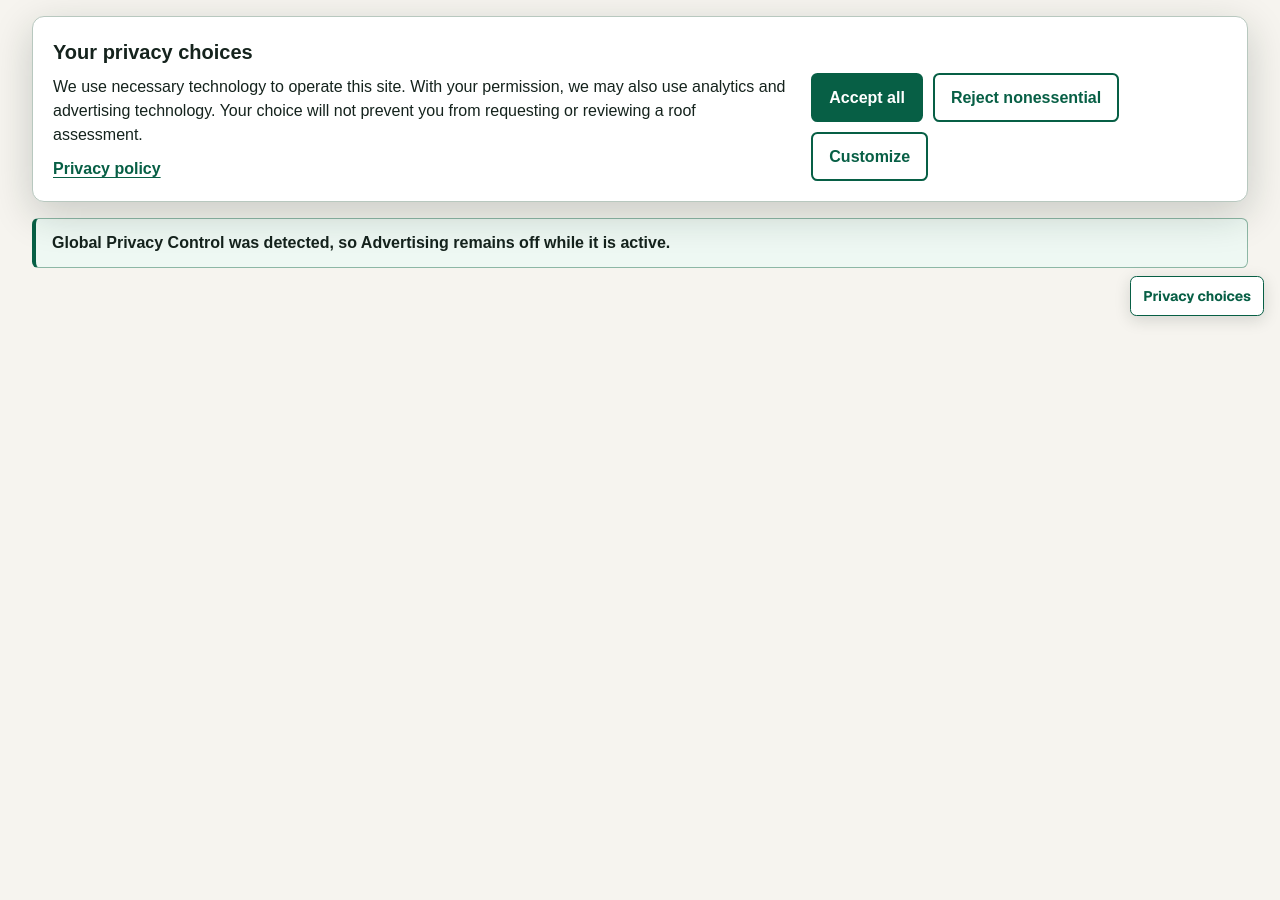
Test case: PrivacyConsentProvider › GPC starts with advertising disabled
Step 1. Click the button "Customize" → (870, 157), box top-left (811, 132), bottom-right (928, 181)
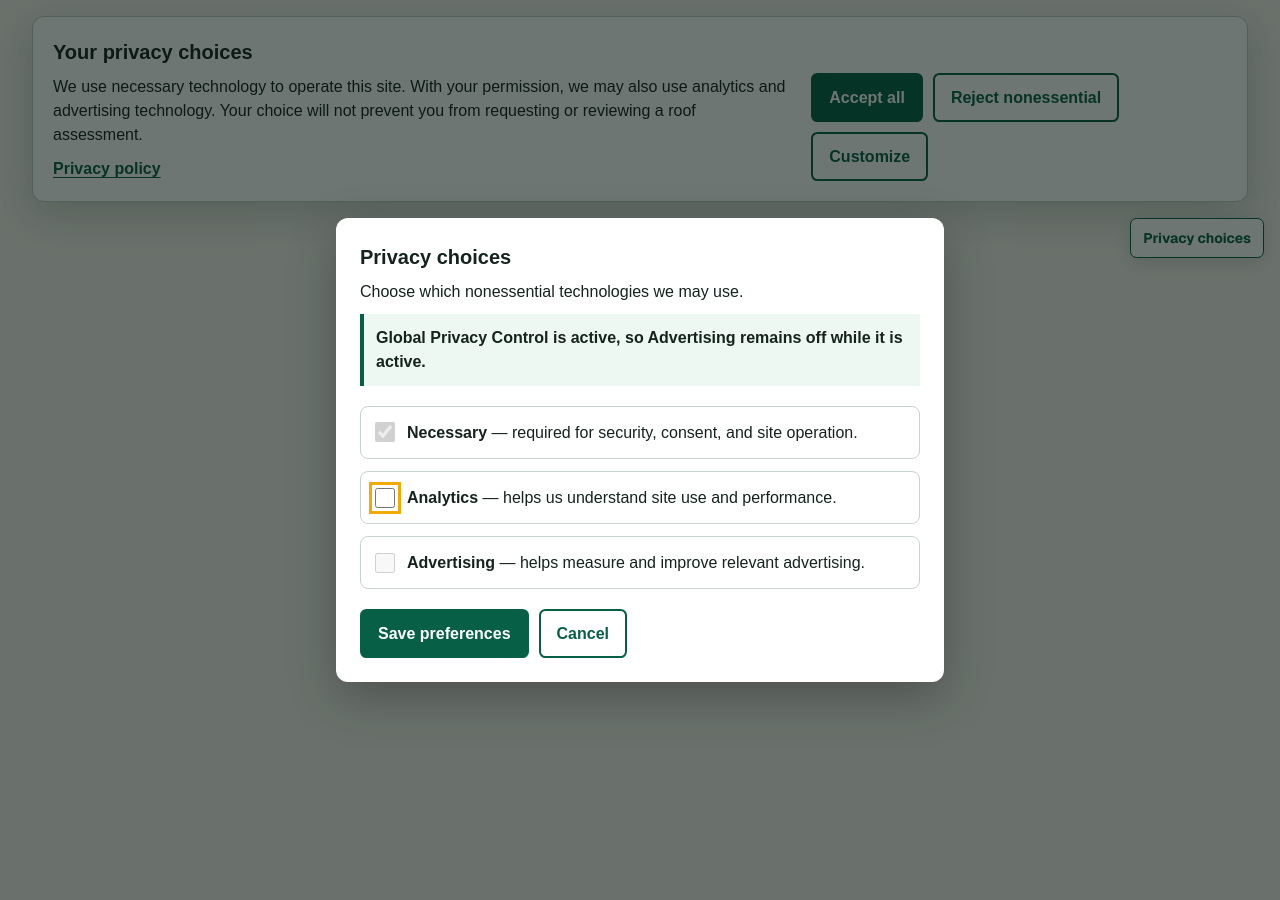
Expected: the checkbox labelled "Advertising" is not checked, top-left (375, 553), bottom-right (395, 573)
Expected: the text "Global Privacy Control" is shown, top-left (376, 329), bottom-right (903, 370)
